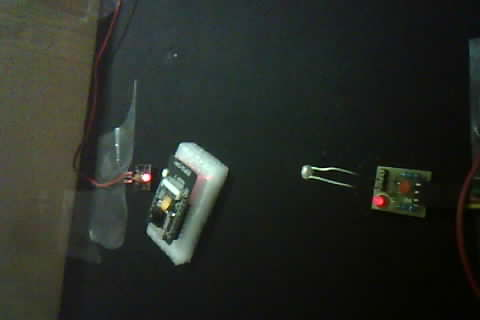esp32: (144, 149, 205, 262)
